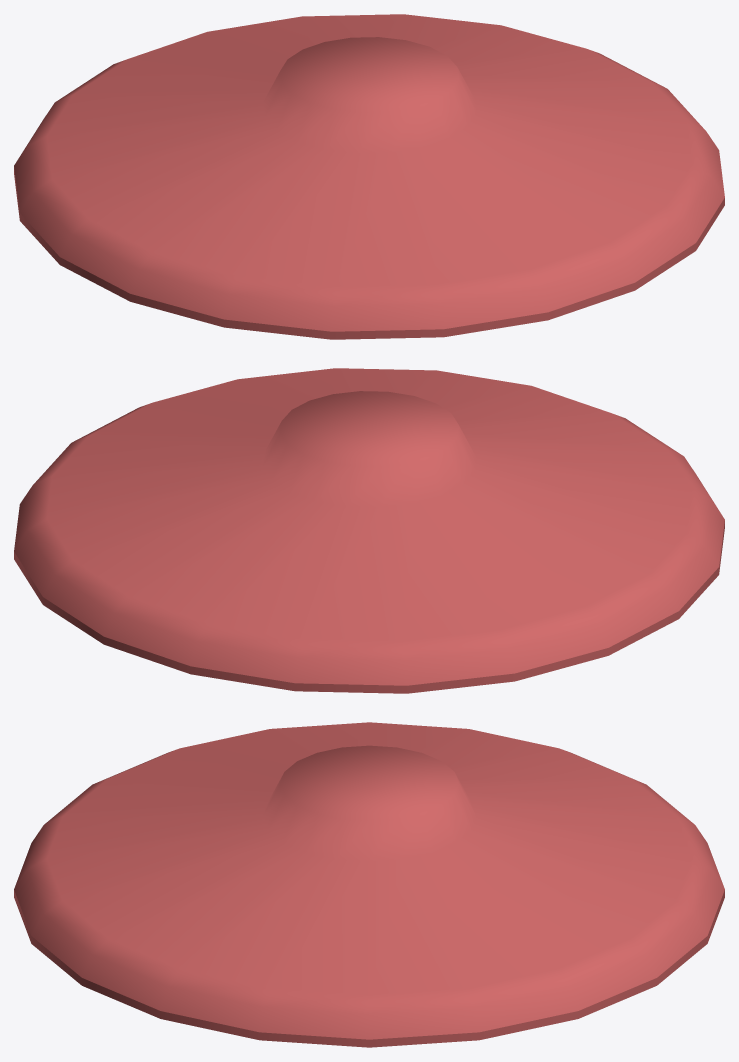
Rendered from p_ashtonhat.fbx.
The picture shows the model from 3 angles, top to bottom: view 1: azimuth 30°, elevation 25°; view 2: azimuth 150°, elevation 25°; view 3: azimuth 270°, elevation 25°; orthographic projection.
Parts seen in each view (by area): view 1: pCylinder1; view 2: pCylinder1; view 3: pCylinder1.
Boxes of the visible parts, bbox=[...] form: pCylinder1: bbox=[14, 14, 724, 339]; pCylinder1: bbox=[14, 368, 724, 693]; pCylinder1: bbox=[14, 722, 724, 1047].
Bounding box in the file's own units: 159 × 28.21 × 159.
